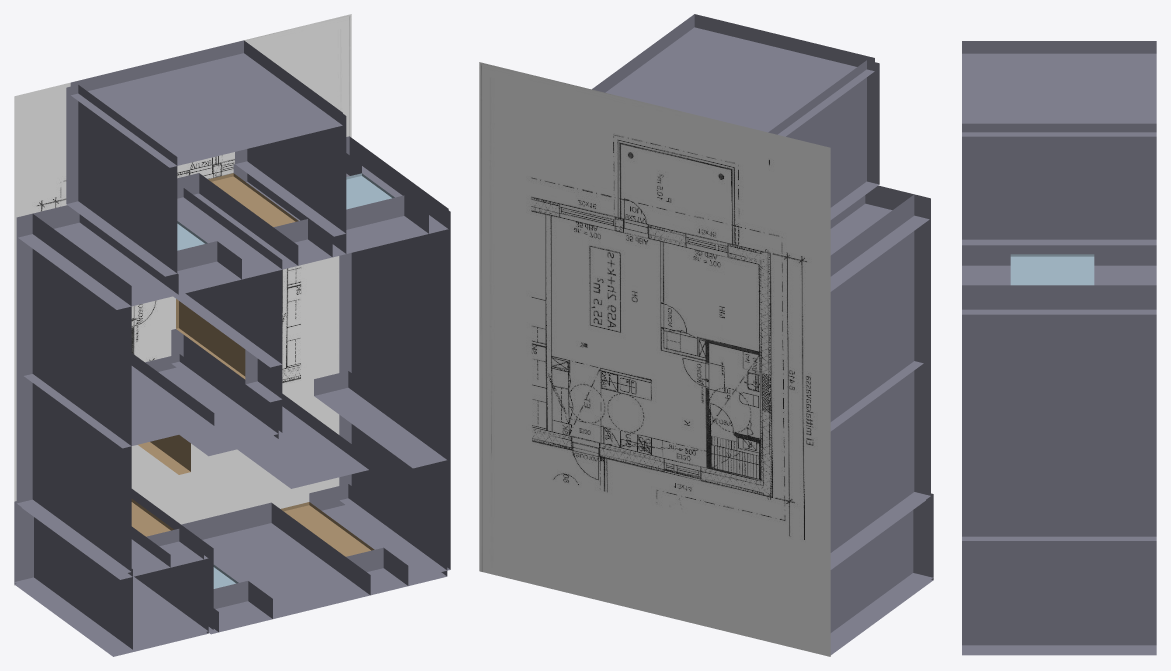
3 views of the same model, side by side, from view 1: azimuth 30°, elevation 25°; view 2: azimuth 150°, elevation 25°; view 3: azimuth 270°, elevation 25° (orthographic). The views are drawn at different scales.
Parts seen in each view (by area): view 1: 18_png.rf.4956b6043e9f9f738808088cfe37243d, InteriorFloor; view 2: InteriorFloor, 18_png.rf.4956b6043e9f9f738808088cfe37243d; view 3: 18_png.rf.4956b6043e9f9f738808088cfe37243d.
Part boxes in pixels (bbox=[...]): 18_png.rf.4956b6043e9f9f738808088cfe37243d: bbox=[14, 40, 450, 656]; InteriorFloor: bbox=[14, 14, 351, 585]; InteriorFloor: bbox=[479, 62, 830, 656]; 18_png.rf.4956b6043e9f9f738808088cfe37243d: bbox=[592, 14, 933, 655]; 18_png.rf.4956b6043e9f9f738808088cfe37243d: bbox=[962, 41, 1156, 655].
Size of the model in its own units: 5.51 by 7.64 by 2.8.
Materials: 2 (1 with a texture image).
